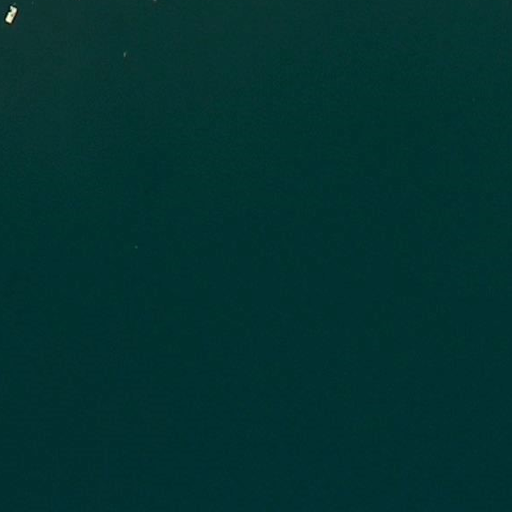ship: (3, 4, 21, 26)
